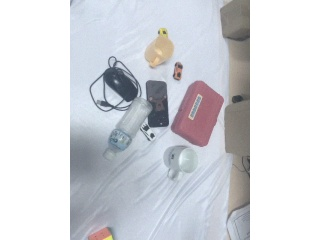bottle: (103, 96, 151, 162)
box: (170, 80, 225, 148), (220, 1, 251, 41)
cup: (163, 145, 199, 183), (143, 35, 173, 68)
mouse: (102, 67, 139, 103)
phone: (145, 78, 170, 128)
toy_car: (140, 123, 159, 142), (156, 25, 172, 38), (173, 62, 183, 81)
